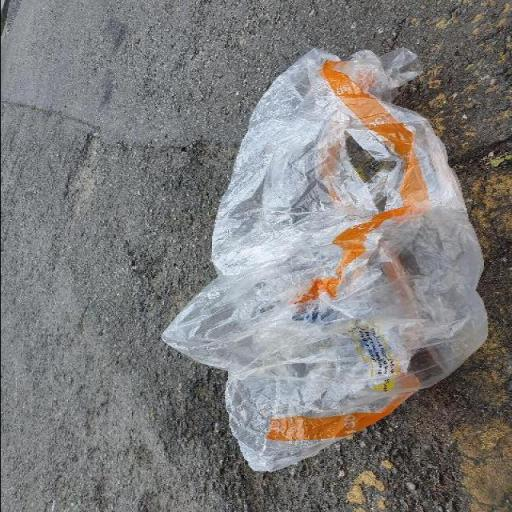plastic-bag: (161, 44, 491, 475)
